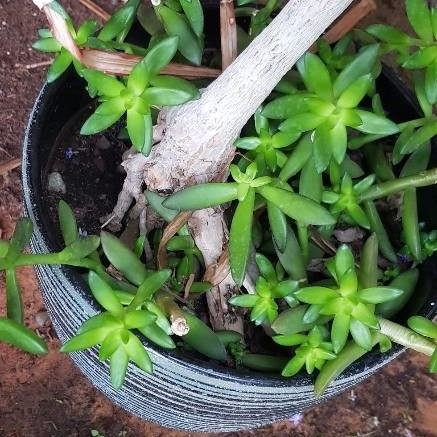obstacle: (41, 6, 416, 430)
